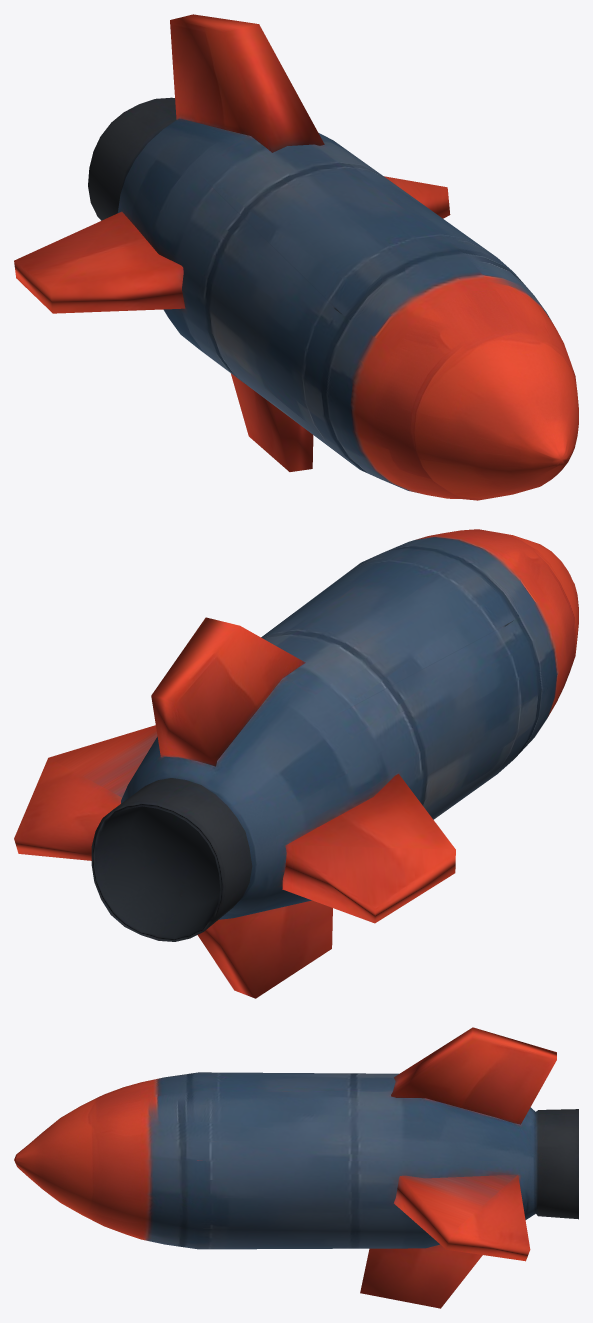
The model's file is missile.glb.
3 renders of one model, top to bottom at view 1: azimuth 30°, elevation 25°; view 2: azimuth 150°, elevation 25°; view 3: azimuth 270°, elevation 25°, orthographic. The views are drawn at different scales.
Visible parts, largest first — view 1: tripo_node_54ecd9a3-ae6c-4a8b-b662-b9823aaefb1e; view 2: tripo_node_54ecd9a3-ae6c-4a8b-b662-b9823aaefb1e; view 3: tripo_node_54ecd9a3-ae6c-4a8b-b662-b9823aaefb1e.
Boxes of the visible parts, x1=… form: tripo_node_54ecd9a3-ae6c-4a8b-b662-b9823aaefb1e: x1=14, y1=14, x2=578, y2=500; tripo_node_54ecd9a3-ae6c-4a8b-b662-b9823aaefb1e: x1=14, y1=529, x2=578, y2=998; tripo_node_54ecd9a3-ae6c-4a8b-b662-b9823aaefb1e: x1=14, y1=1027, x2=578, y2=1308.
Bounding box in the file's own units: 0.4874 × 0.4508 × 0.85.
1 material, 1 textured.
